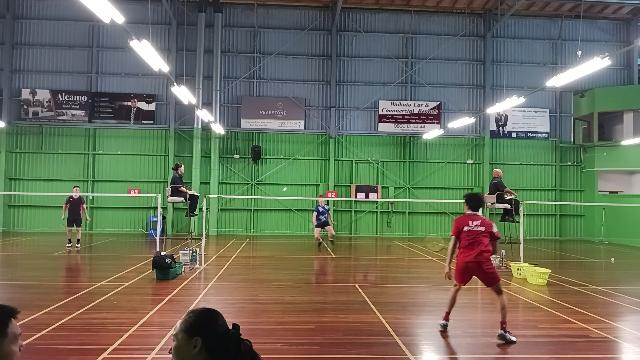Shuttlecock: (280, 184, 290, 192)
